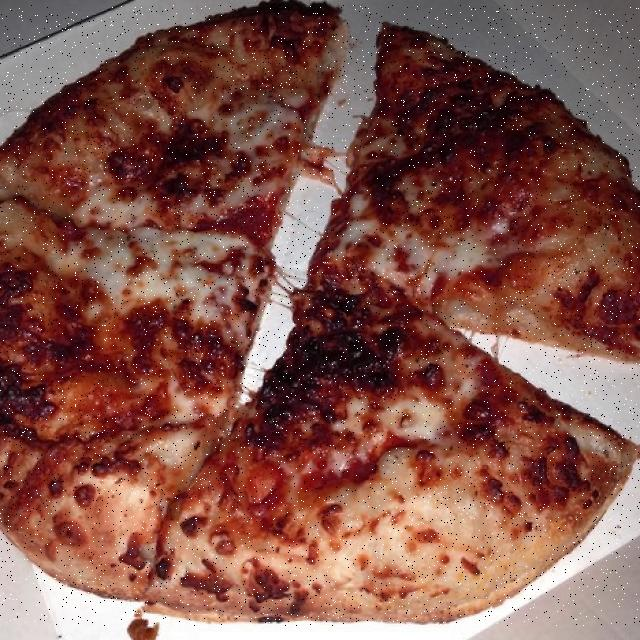Pizza: (0, 6, 640, 626)
